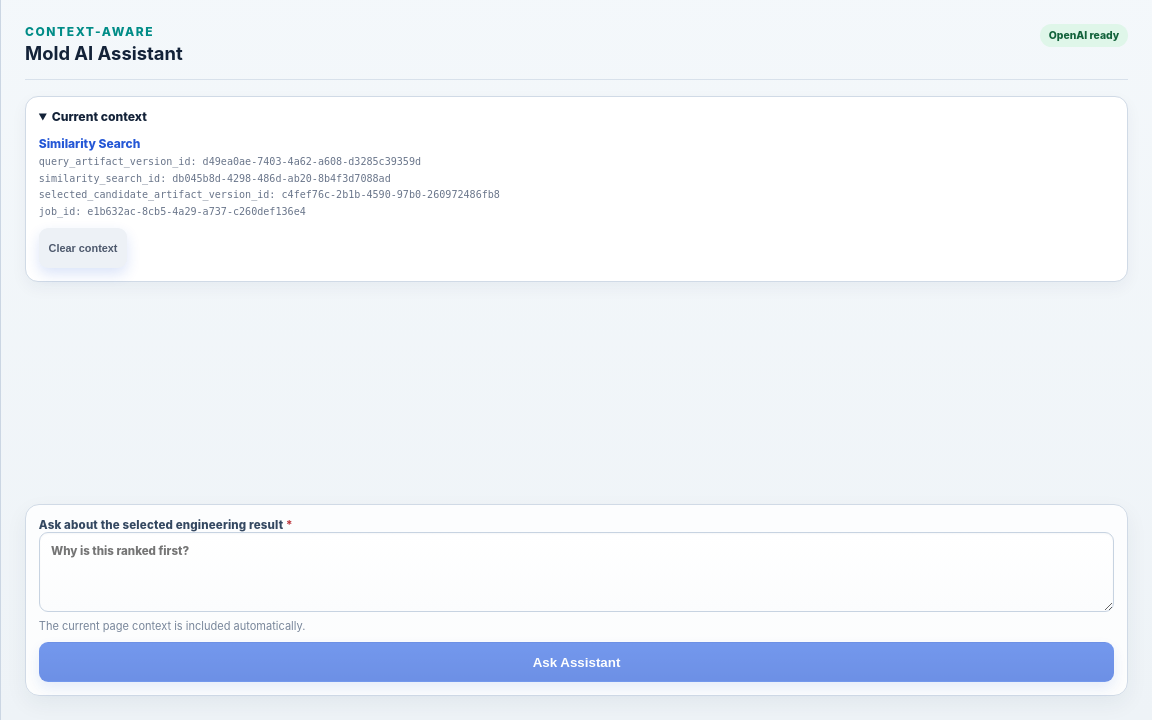
AssistantPanel › stops waiting without claiming the server request was cancelled
Type "Explain this result" into the text box at x=576, y=572, box x1=39 y1=532 x2=1114 y2=612
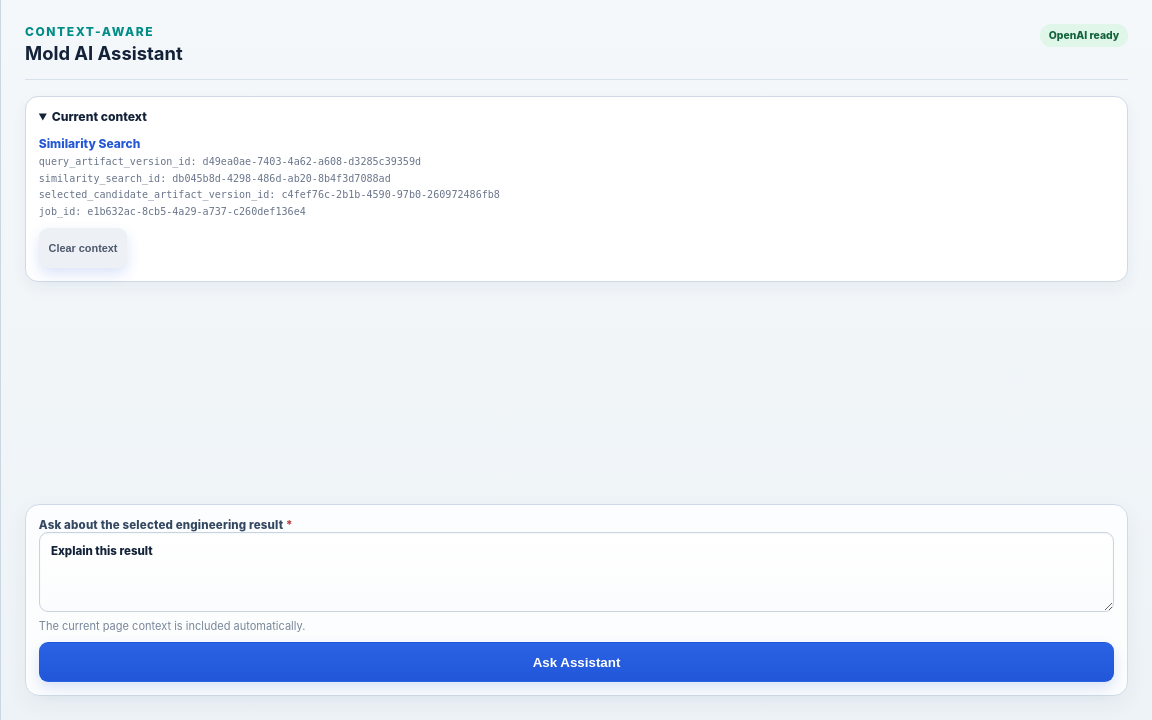
Submit the form, box x1=25 y1=504 x2=1128 y2=696
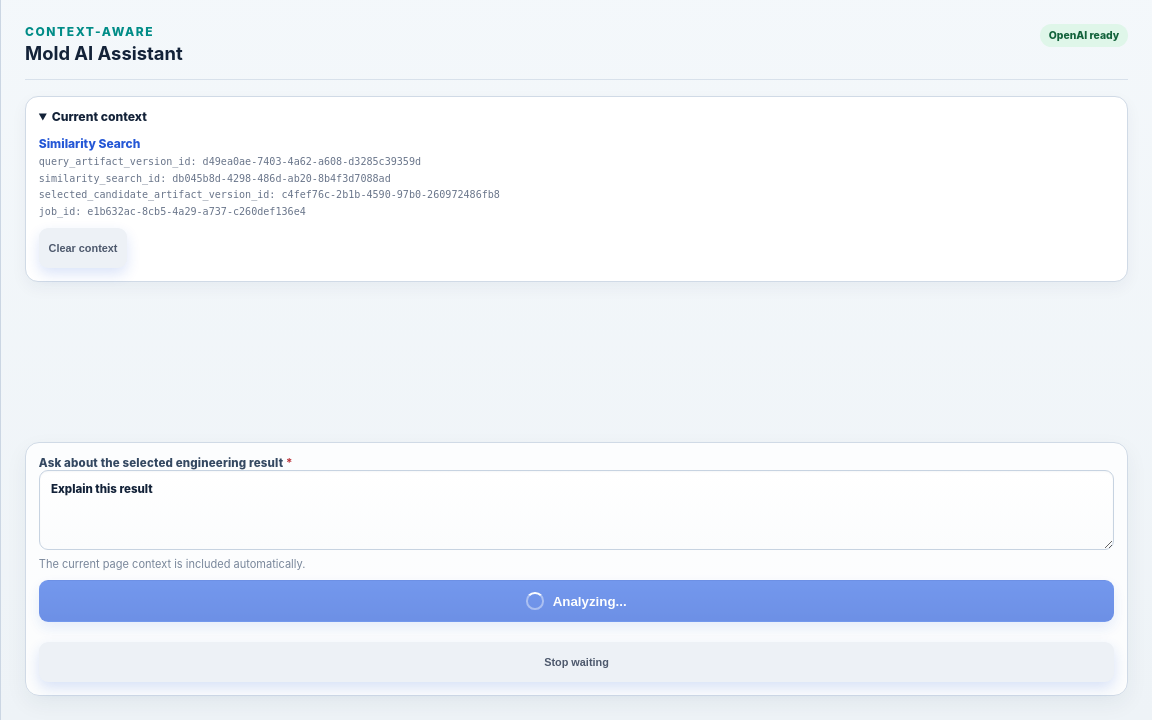
Click the button with class "assistant-stop" at x=576, y=662, box x1=39 y1=642 x2=1114 y2=682
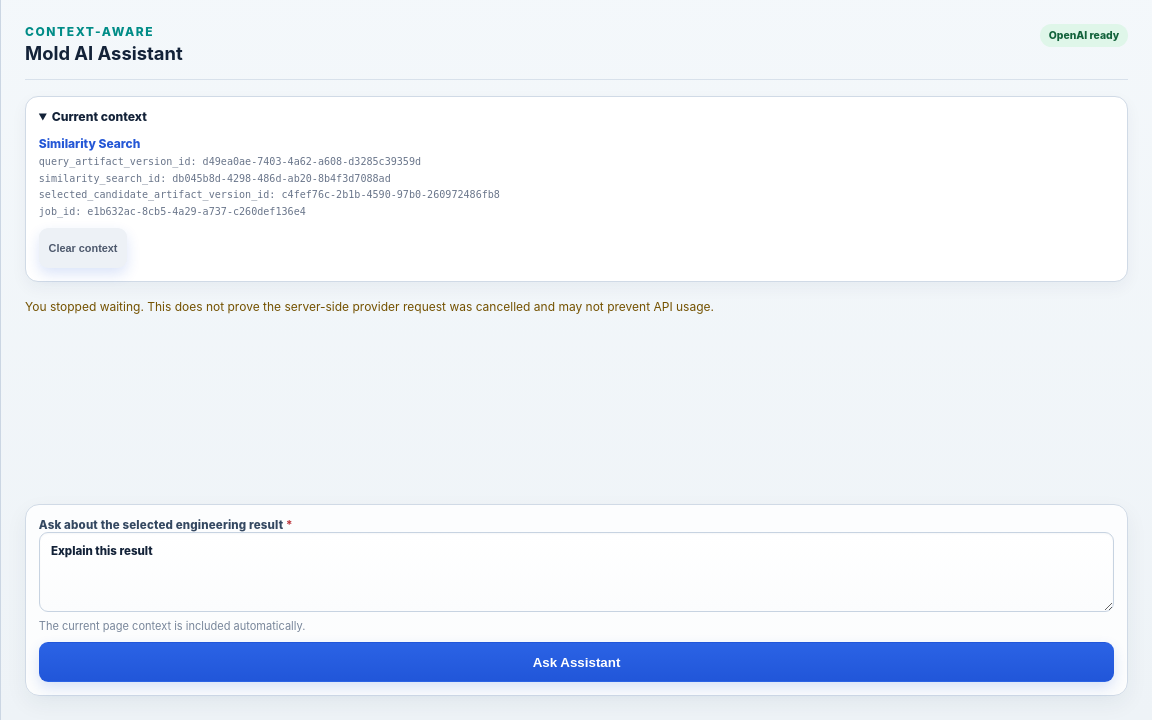
Result: the text "does not prove the server-side provider request was cancelled" is shown at x1=25 y1=299 x2=714 y2=314
